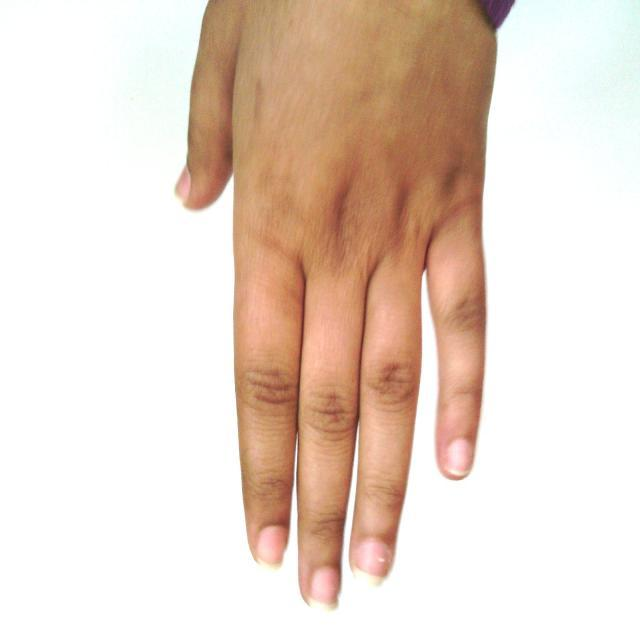Fingernail: (353, 542, 389, 587), (257, 527, 287, 569), (309, 569, 339, 609), (444, 441, 471, 475), (175, 168, 190, 202)
